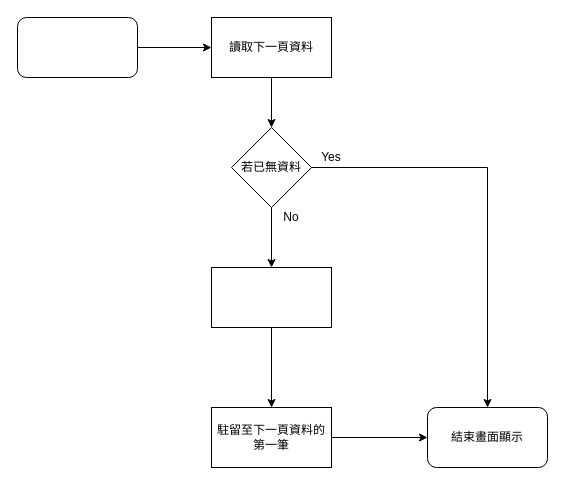
Some shapes in this 565 by 485 pixel diagram are drawn without their labels. Each missing label, with the centre of its shape:
"滑鼠點擊按鈕.往下" belongs at point (77, 47).
"顯示下一頁資料" belongs at point (271, 297).
